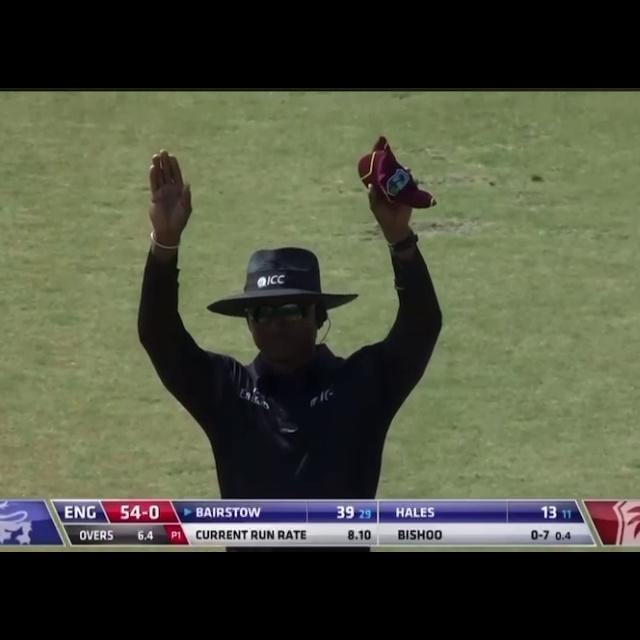umpire: (119, 106, 444, 501)
